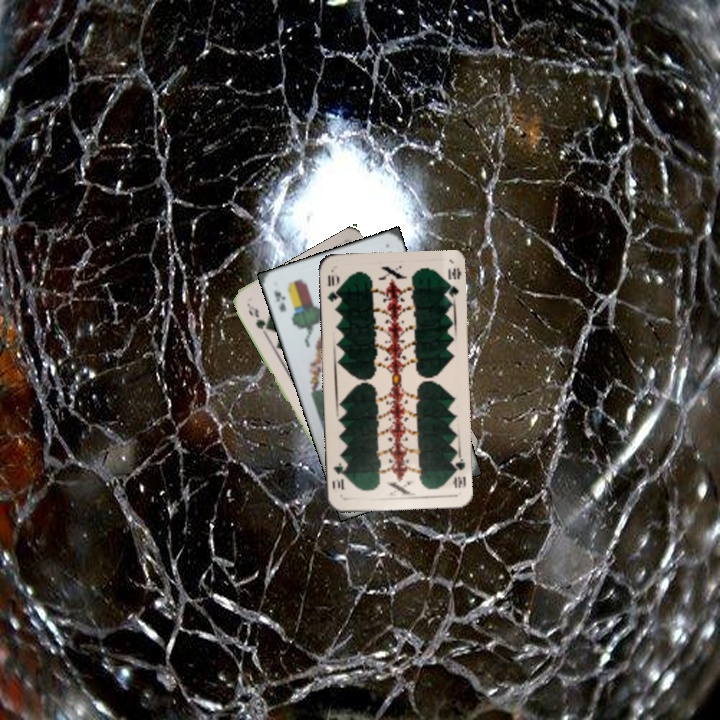EK: (270, 286, 289, 314)
G10: (448, 452, 468, 490), (323, 270, 342, 305)
G9: (243, 300, 272, 337)
